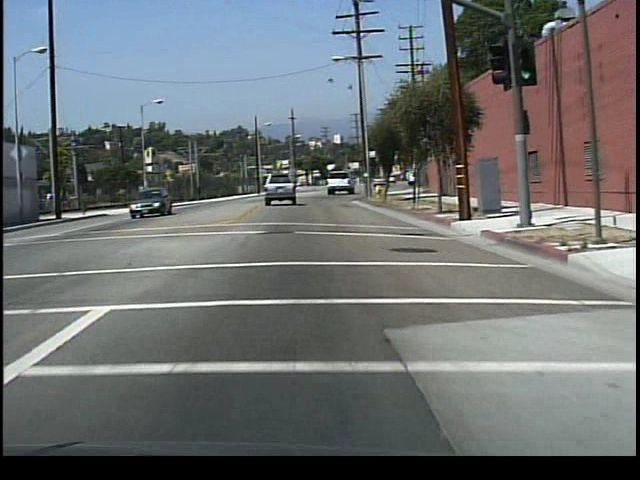person: (194, 183, 206, 204)
